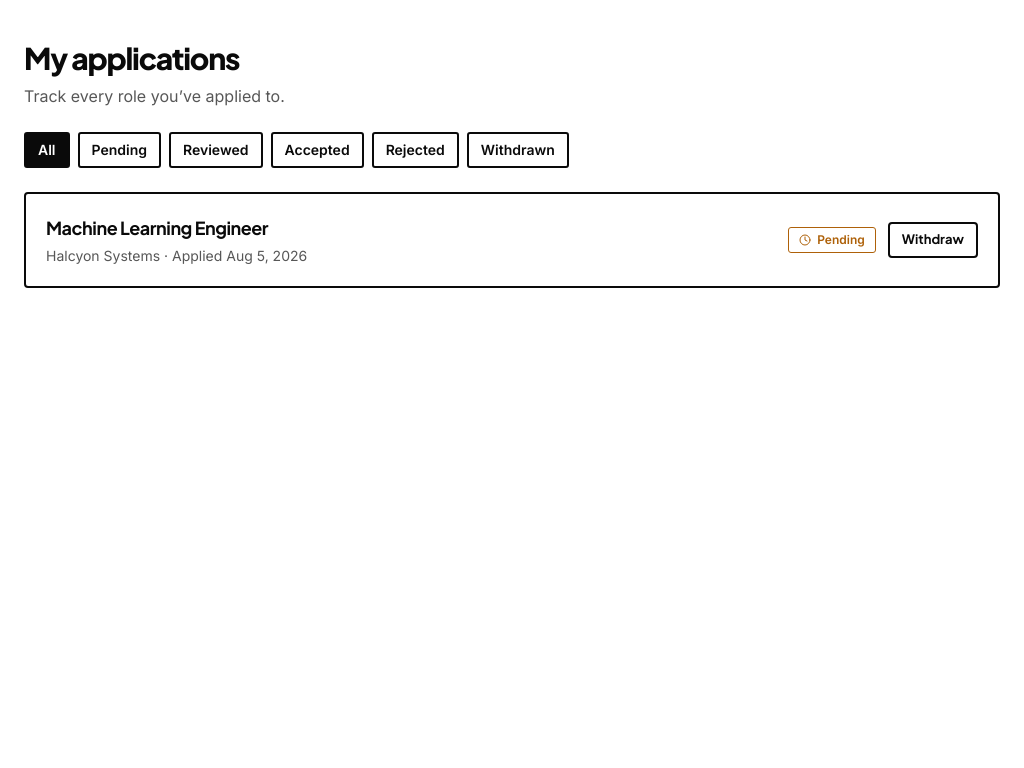
it: SeekerApplications › withdraws an application, shows a success toast, and invalidates the list and detail caches
The image size is (1024, 768).
Click the button "Withdraw" at (933, 240), box [888, 222, 978, 258]
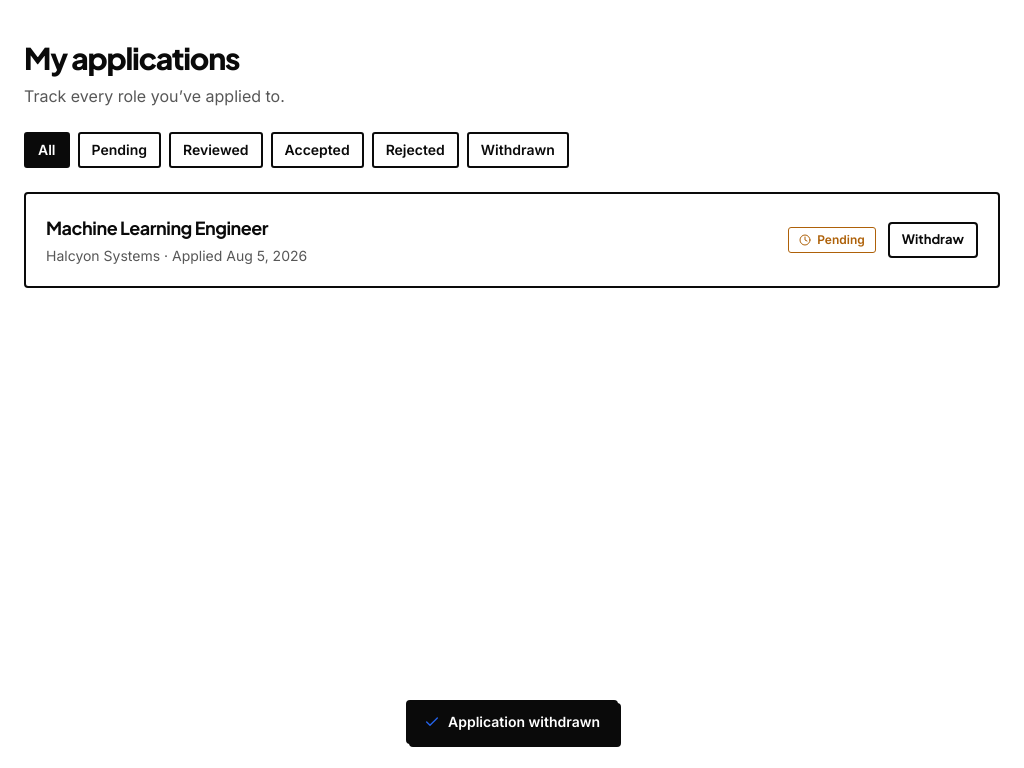
Expected: the text "Application withdrawn" is shown, [406, 700, 618, 744]
